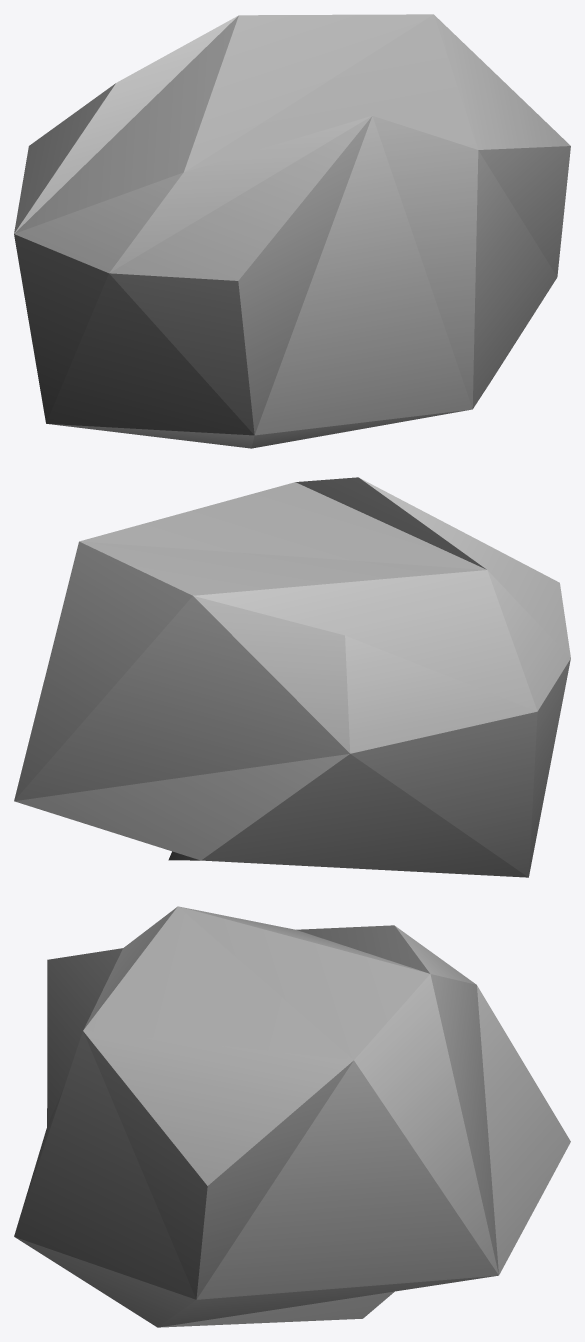
File: SmallRock.FBX
3 views of the same model, one above another, from view 1: azimuth 30°, elevation 25°; view 2: azimuth 150°, elevation 25°; view 3: azimuth 270°, elevation 25° (orthographic). The views are drawn at different scales.
Visible parts, largest first — view 1: GeoSphere003; view 2: GeoSphere003; view 3: GeoSphere003.
Boxes of the visible parts, left/top/right/bottom form: GeoSphere003: left=14, top=14, right=570, bottom=448; GeoSphere003: left=14, top=477, right=570, bottom=877; GeoSphere003: left=14, top=906, right=570, bottom=1327.
Size of the model in its own units: 52.54 by 33.69 by 49.2.
